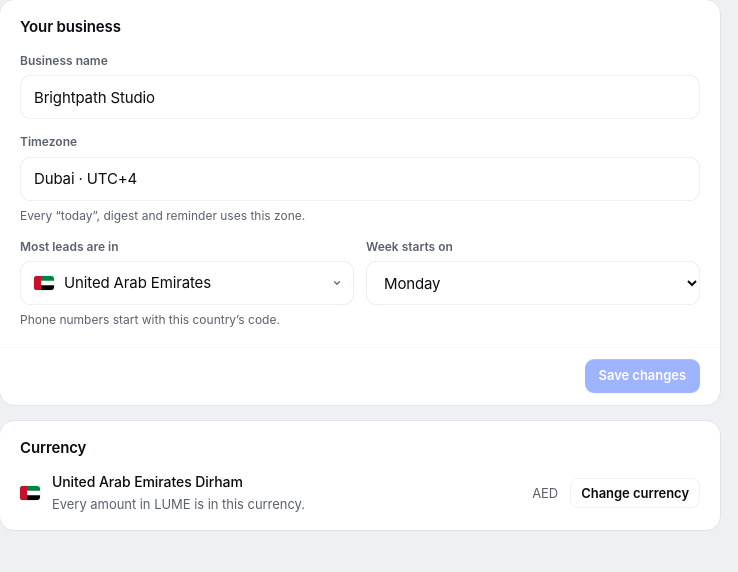
it: BusinessForm › has nothing to save until something changes, and needs a name
The width and height of the screenshot is (738, 572).
Check: the button "Save changes" is disabled, box x1=584 y1=359 x2=700 y2=393
Clear the field labelled "Business name" at (360, 97), box x1=20 y1=75 x2=700 y2=119
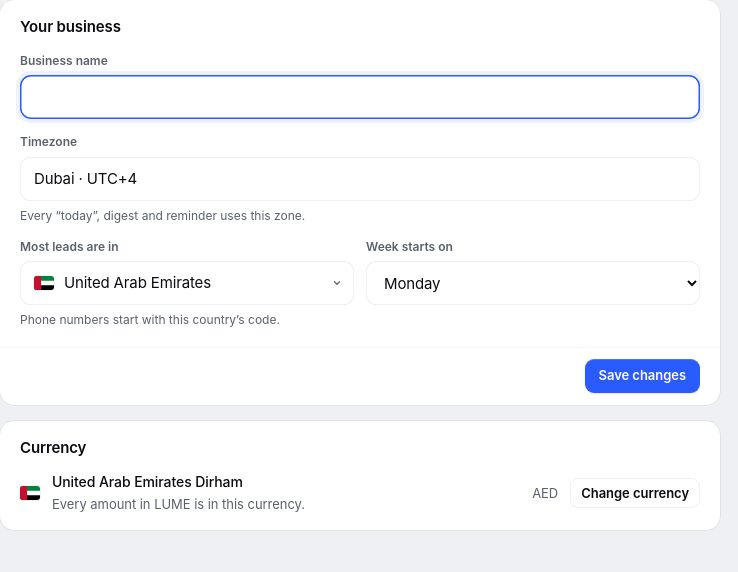
Click the button "Save changes" at (642, 376), box x1=584 y1=359 x2=700 y2=393
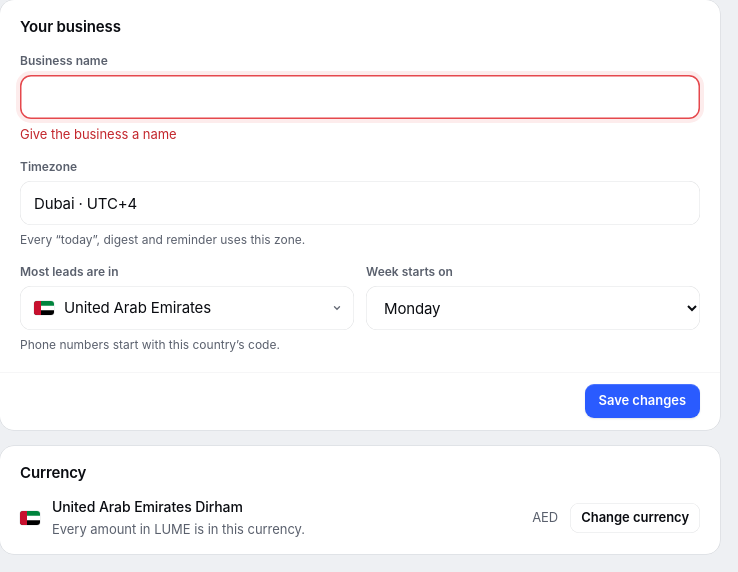
Check: the text "Give the business a name" is shown, box x1=20 y1=126 x2=177 y2=142
